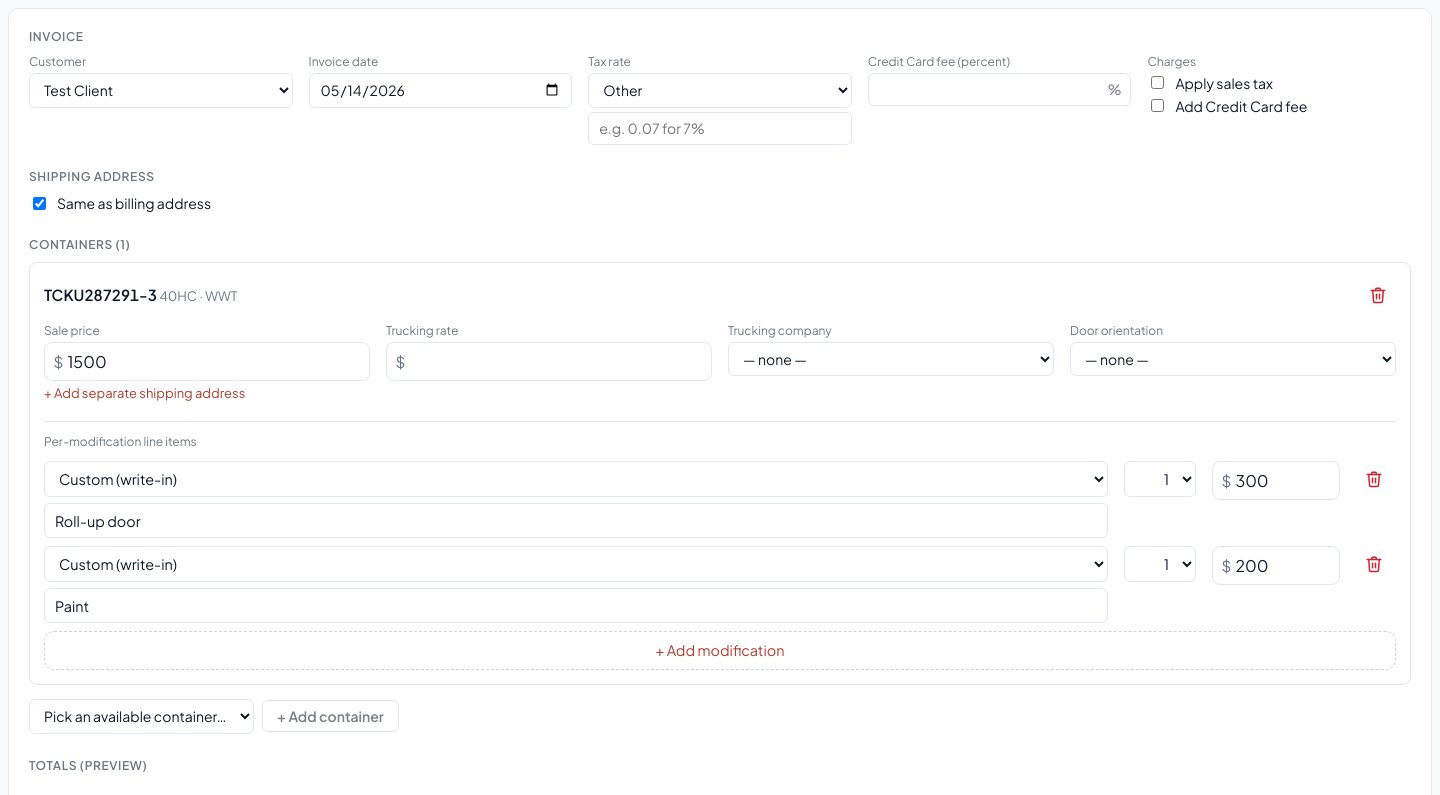
Test: InvoiceEditor › removing the only container shows the "No containers" warning
Click the button named "Remove container" at (1378, 295), box [1360,277,1396,313]
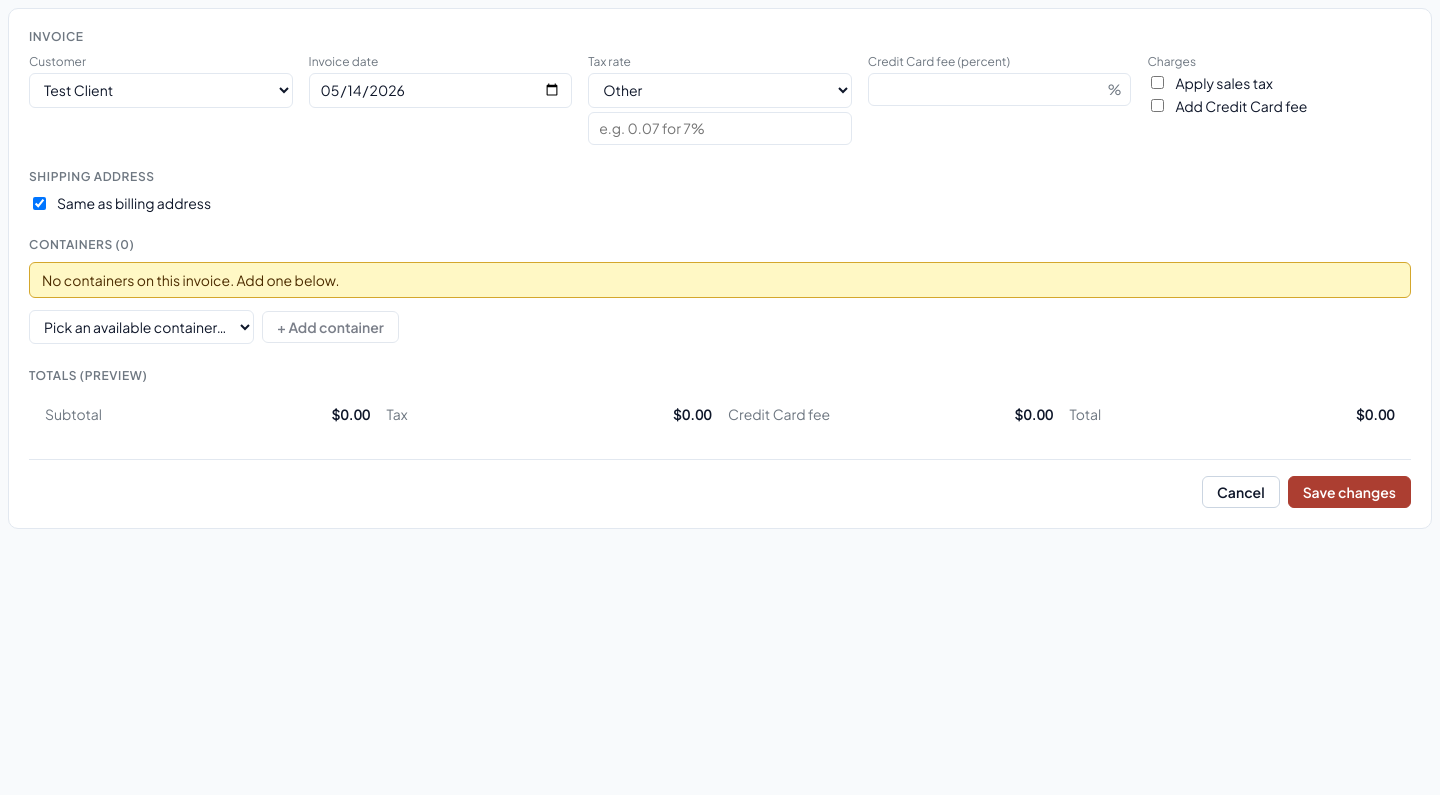
Check: the text "No containers on this invoice. Add one below." is shown, box [29,262,1411,298]
